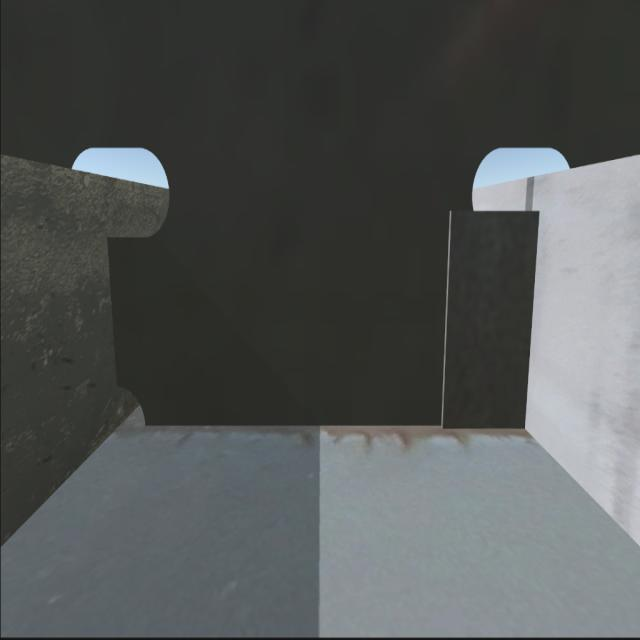fillet_hole: (116, 396, 146, 430)
fillet_yong_jeop_jang: (150, 422, 527, 432)
longi_yong_jeop_jang: (527, 210, 541, 428), (105, 244, 124, 390)
plate_CP01: (450, 208, 541, 429)
